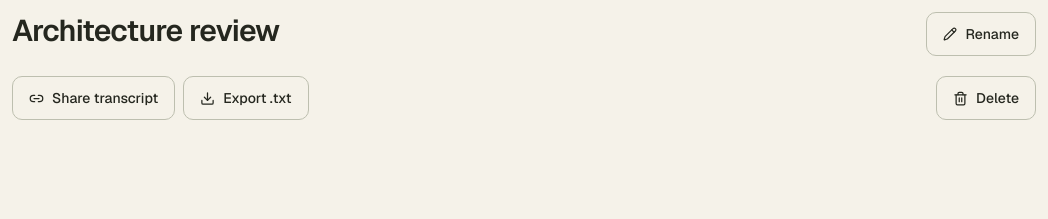
it: saved transcript actions › cancel and IME composition never save a draft
Click the button with aria-label "Rename transcript": (981, 34) x1=926 y1=12 x2=1036 y2=56
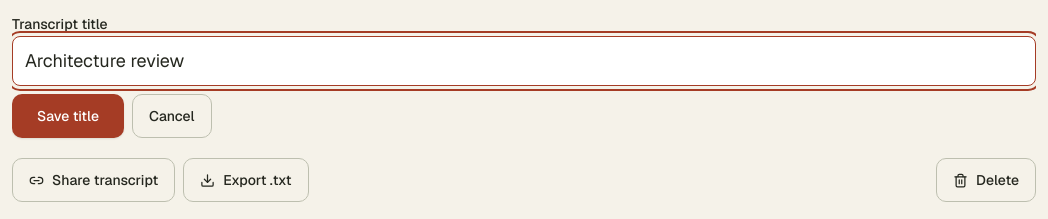
Replace the text in the field labelled "Transcript title" with "Draft": (524, 61) x1=12 y1=36 x2=1036 y2=86
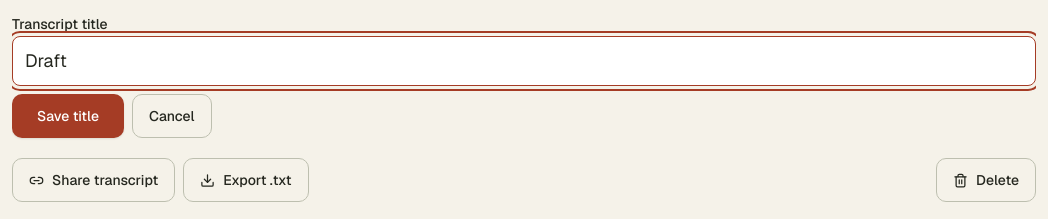
Press Enter in the field labelled "Transcript title", box x1=12 y1=36 x2=1036 y2=86
Click the button "Cancel": (172, 116) x1=132 y1=94 x2=212 y2=138
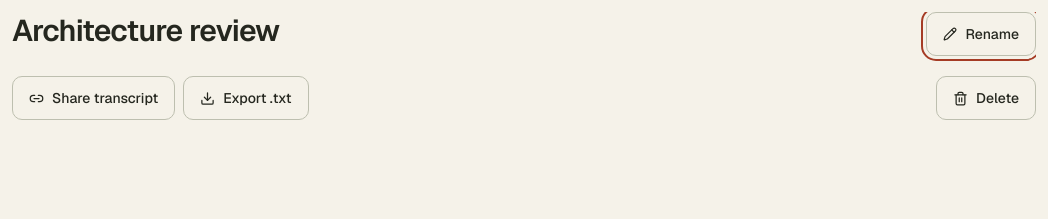
Check: the heading "Architecture review" is shown, box x1=12 y1=12 x2=280 y2=50
